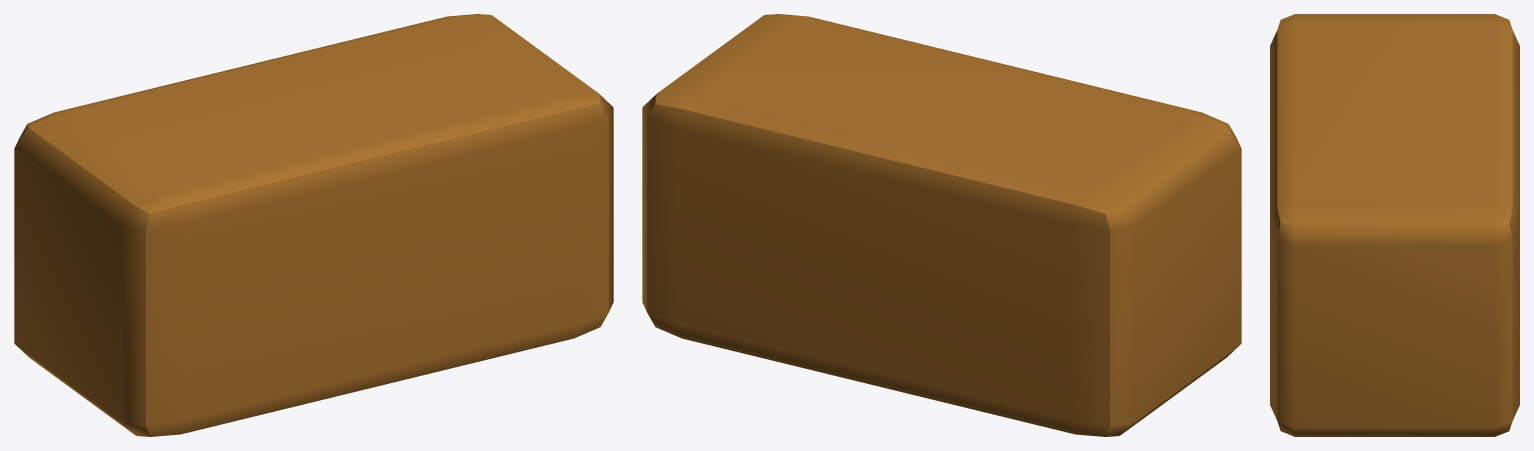
File: Bloque_2_low.fbx
3 views of the same model, side by side, from view 1: azimuth 30°, elevation 25°; view 2: azimuth 150°, elevation 25°; view 3: azimuth 270°, elevation 25° (orthographic). The views are drawn at different scales.
Visible parts, largest first — view 1: bloque_2; view 2: bloque_2; view 3: bloque_2.
Part boxes in pixels (x1=…): bloque_2: x1=14, y1=14, x2=613, y2=436; bloque_2: x1=642, y1=14, x2=1241, y2=436; bloque_2: x1=1270, y1=14, x2=1519, y2=436.
Size of what is drawn, in the model's own units: 16.62 by 7.87 by 7.87.
